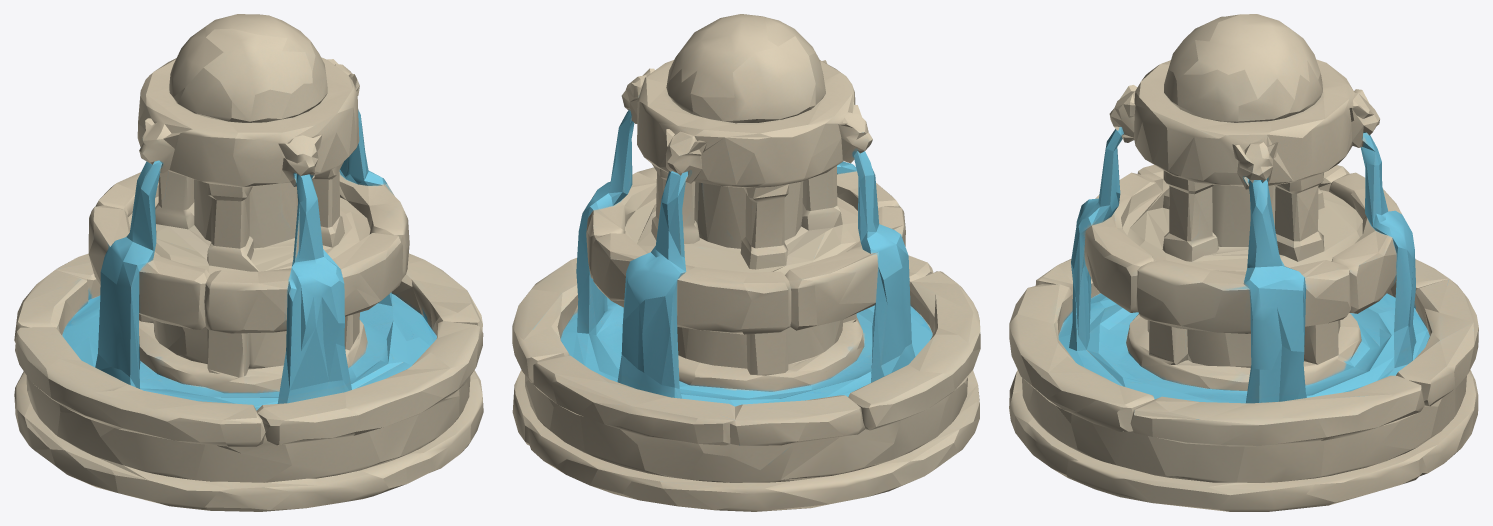
3 views of the same model, side by side, from view 1: azimuth 30°, elevation 25°; view 2: azimuth 150°, elevation 25°; view 3: azimuth 270°, elevation 25° (orthographic).
Bounding box in the file's own units: 1.9 × 1.76 × 1.9.
Materials: 1 (1 with a texture image).
